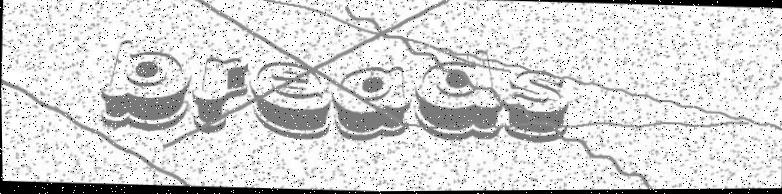a: (329, 64, 412, 146)
b: (99, 39, 192, 132)
d: (412, 48, 503, 144)
e: (246, 60, 334, 142)
r: (189, 55, 251, 137)
s: (497, 67, 573, 144)
